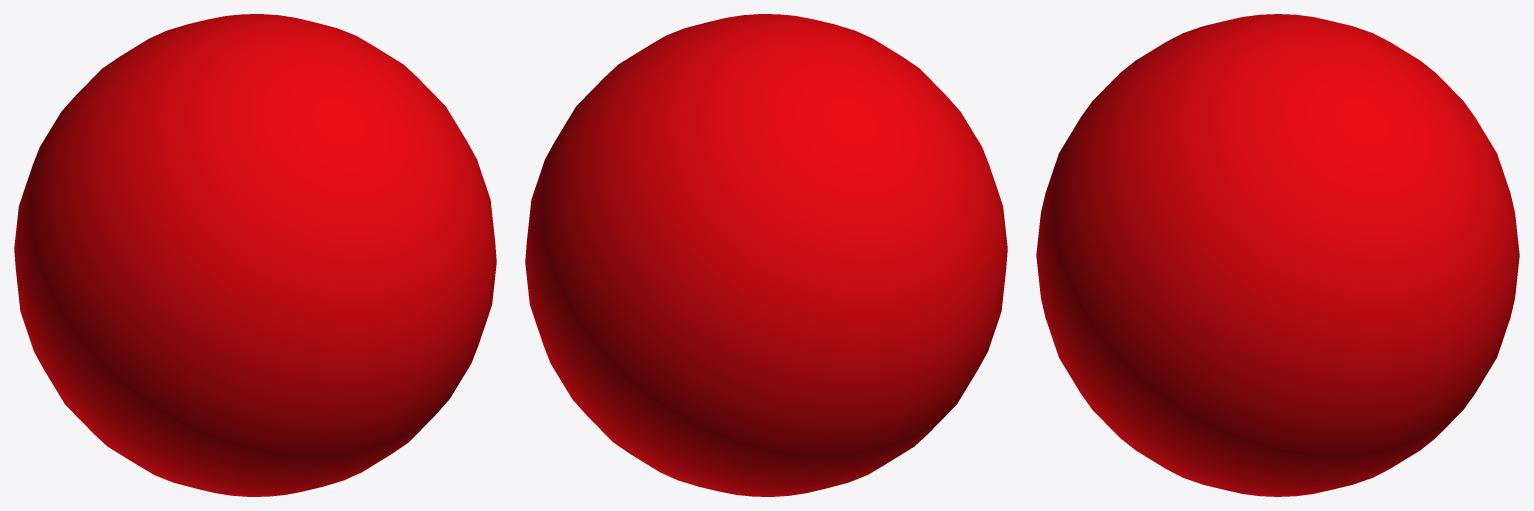
Rendered from cell fractured sphere.fbx.
3 views of the same model, side by side, from view 1: azimuth 30°, elevation 25°; view 2: azimuth 150°, elevation 25°; view 3: azimuth 270°, elevation 25° (orthographic).
Visible parts, largest first — view 1: main sphere; view 2: main sphere; view 3: main sphere.
Part boxes in pixels (x1,y1,x2,y2): main sphere: (14, 14, 496, 496); main sphere: (525, 14, 1007, 496); main sphere: (1036, 14, 1519, 496).
Bounding box in the file's own units: 201 × 201 × 201.
